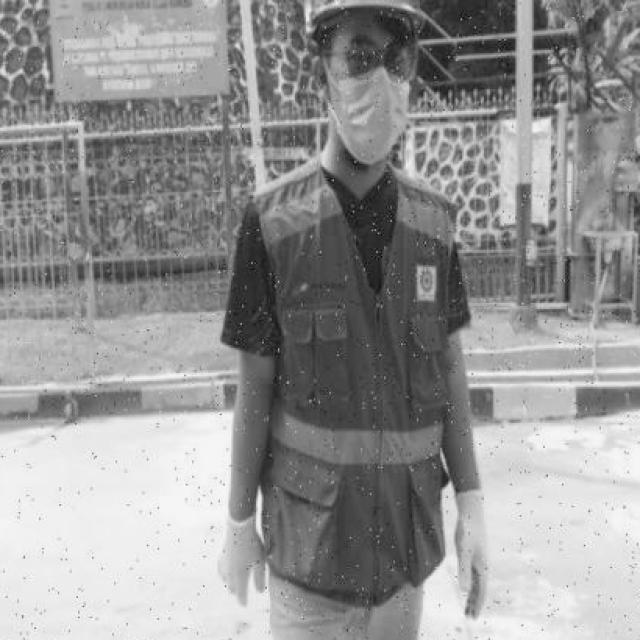Gloves: (455, 489, 488, 617), (219, 516, 266, 604)
Hardhat: (308, 0, 428, 41)
Mask: (329, 67, 409, 165)
